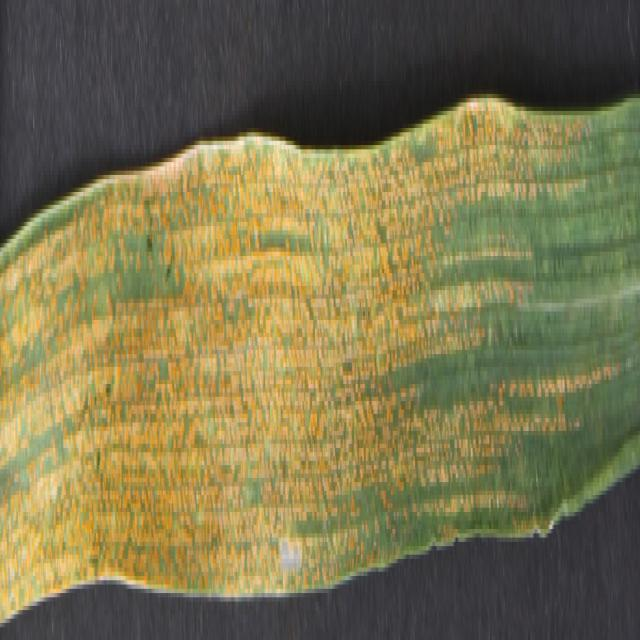leaf rust: (1, 124, 612, 610)
